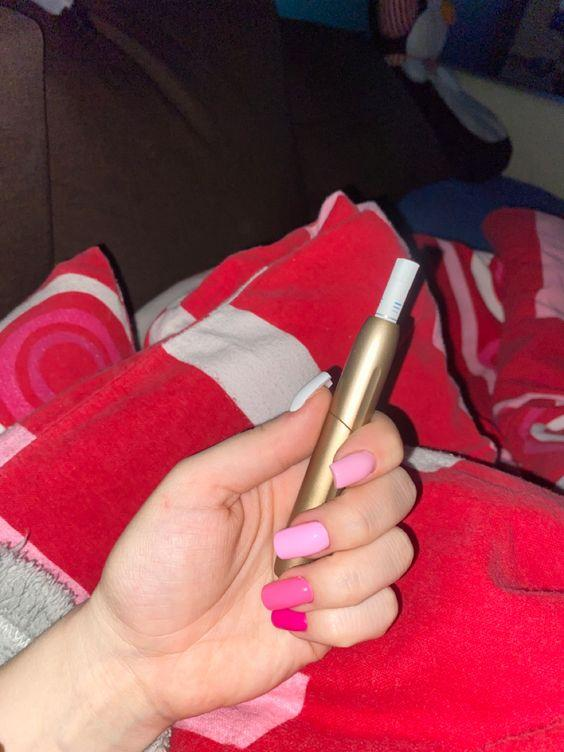iqos: (272, 257, 421, 578)
